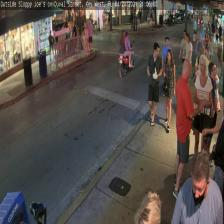person: (172, 58, 203, 200)
